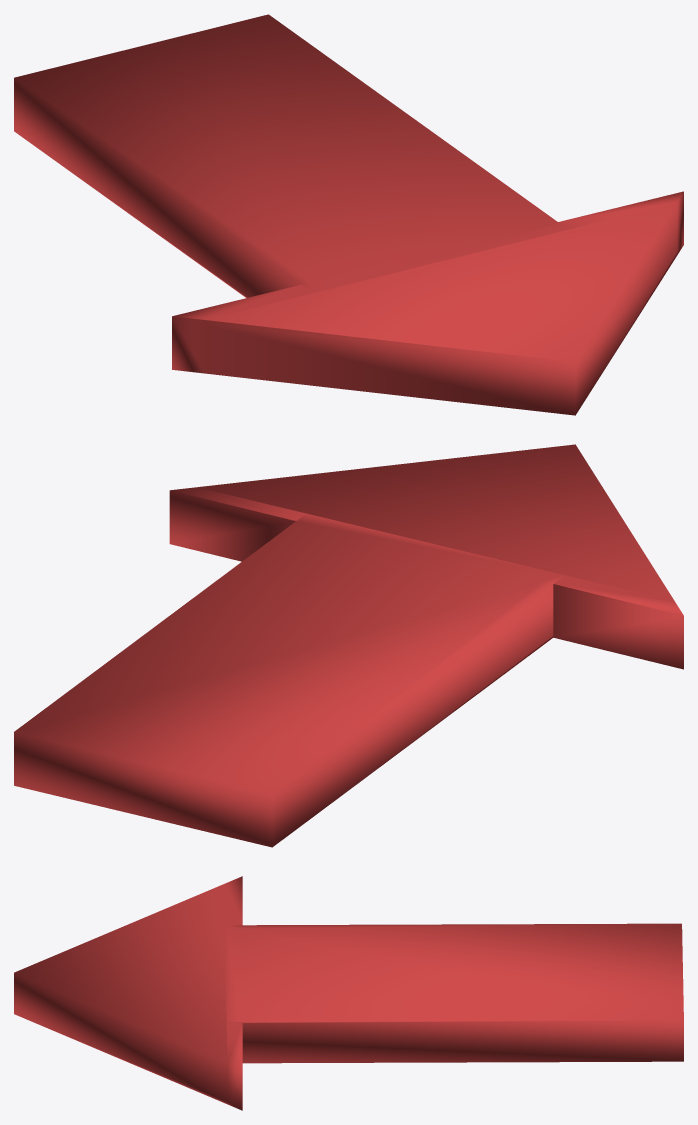
The model's file is arrow.glb.
3 renders of one model, top to bottom at view 1: azimuth 30°, elevation 25°; view 2: azimuth 150°, elevation 25°; view 3: azimuth 270°, elevation 25°, orthographic. The views are drawn at different scales.
Parts seen in each view (by area): view 1: Arrow; view 2: Arrow; view 3: Arrow.
Part boxes in pixels (x1=…): Arrow: x1=14, y1=14, x2=683, y2=415; Arrow: x1=14, y1=444, x2=683, y2=847; Arrow: x1=14, y1=876, x2=683, y2=1110.
Size of the model in its own units: 10 by 1 by 14.65.
